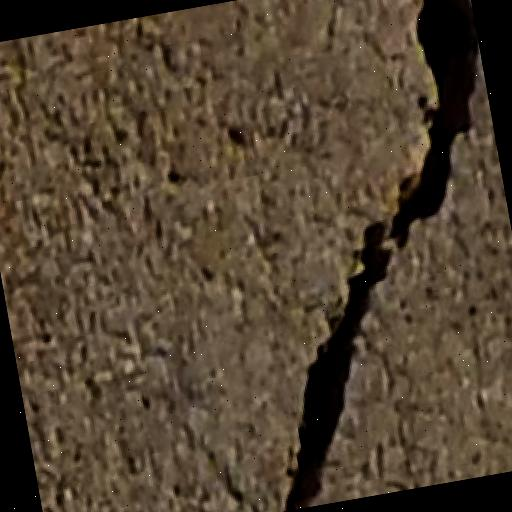spalling: (265, 0, 484, 498)
